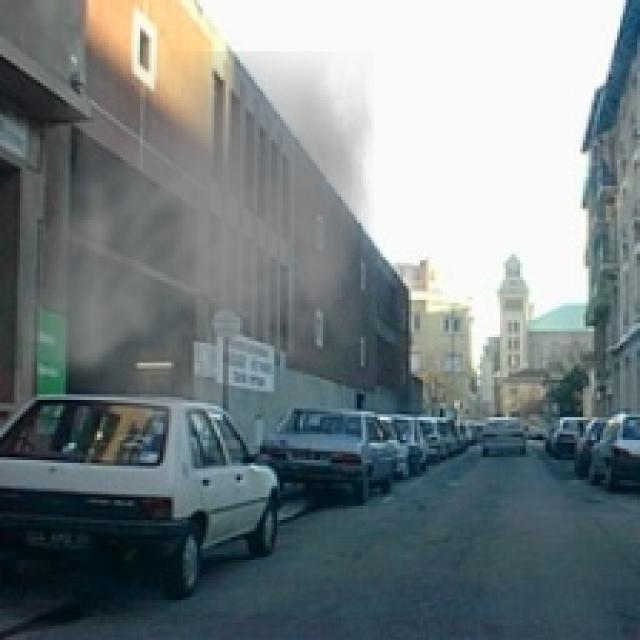smoke: (23, 51, 374, 452)
